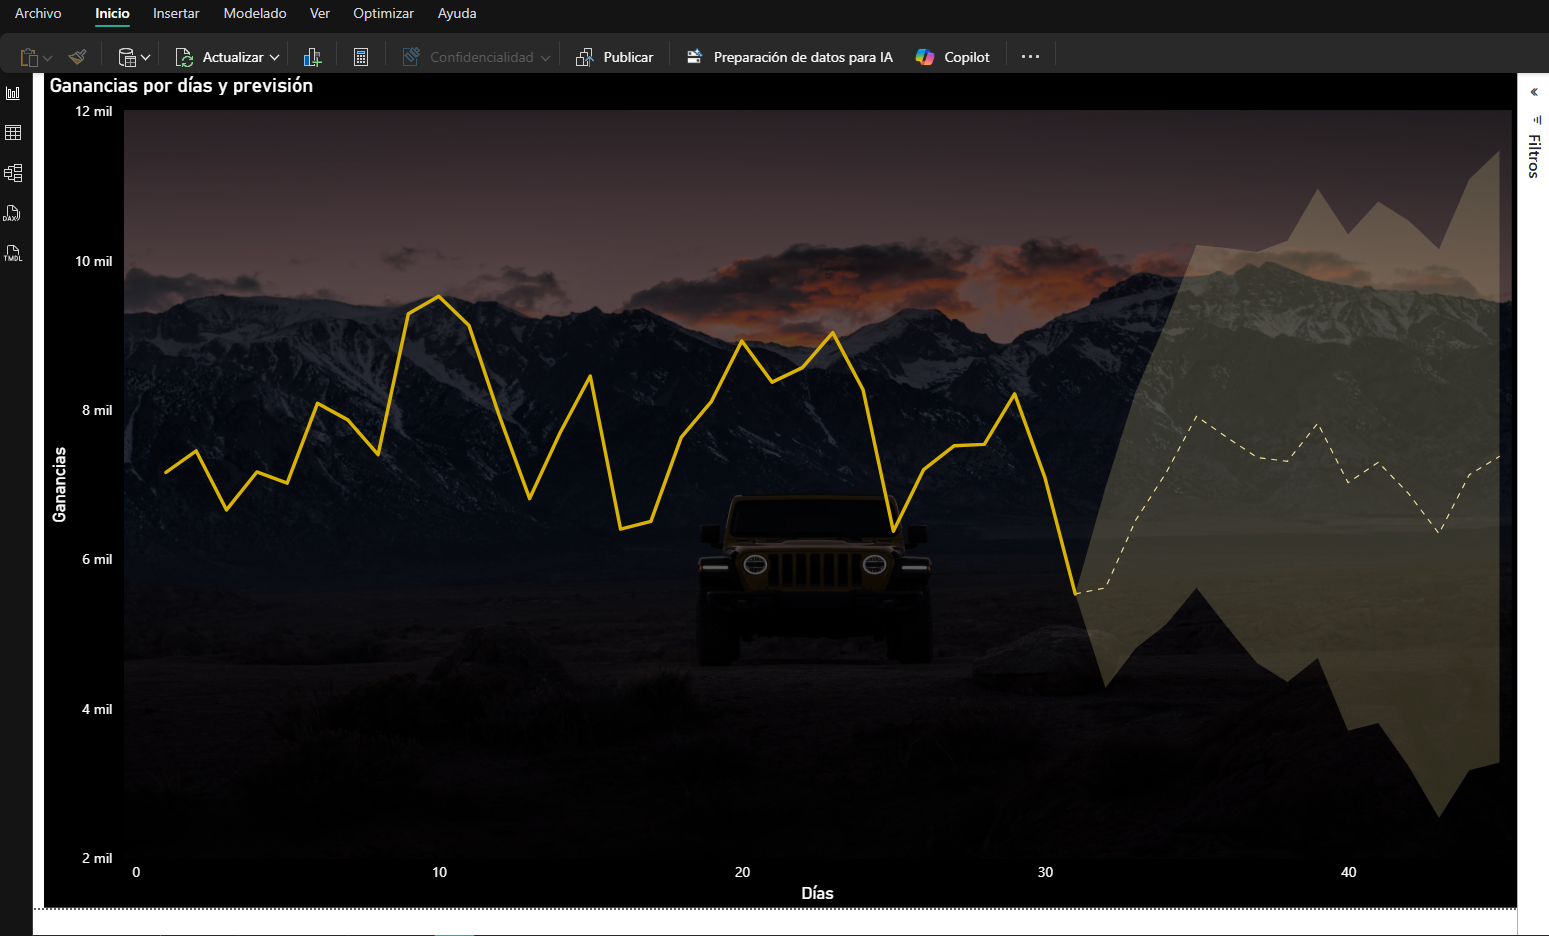

What the dashboard file says about the page in this screenshot:
{"tool":"powerbi","page":{"name":"Forecast","canvas":[1280,720],"ordinal":2},"visuals":[{"type":"lineChart","title":"Ganancias por días y previsión","fields":{"Y":["Sum(rentas_autos_forecast_updated.GananciaMensual_Media7D)"],"Category":["rentas_autos_forecast_updated.Fecha.Variación.Jerarquía de fechas.Día"]},"box":[9.5,0,1270.5,720.2],"z":0}]}

Visuals, with their boxes on the page's 1280x720 design canvas (x1, y1, x2, y2). These are canvas units, not pixel positions in the 1549x936 screenshot, which may show the page scaled, cropped or inside an application window:
"Ganancias por días y previsión" lineChart: pyautogui.locateOnScreen(10, 0, 1280, 720)
